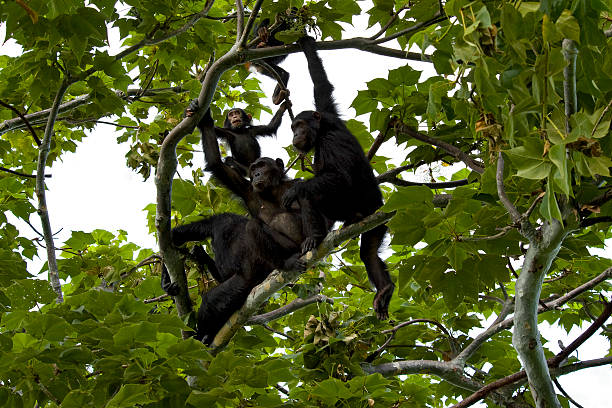chimpanzee: (242, 149, 289, 203), (287, 101, 328, 154), (218, 102, 253, 133)
